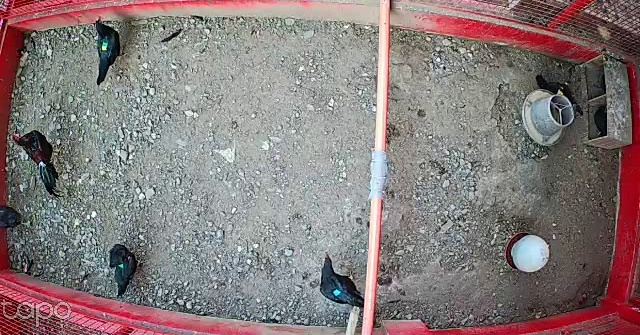Chicken: (318, 248, 365, 311), (93, 17, 129, 82), (533, 72, 583, 117), (108, 240, 136, 300), (0, 202, 33, 231)
Rooster: (10, 128, 67, 198)
Saddle_Color_Blue: (334, 288, 344, 295)
Saddle_Color_Green: (118, 261, 125, 267)
Saddle_Color_YellowGreen: (101, 40, 108, 51)
